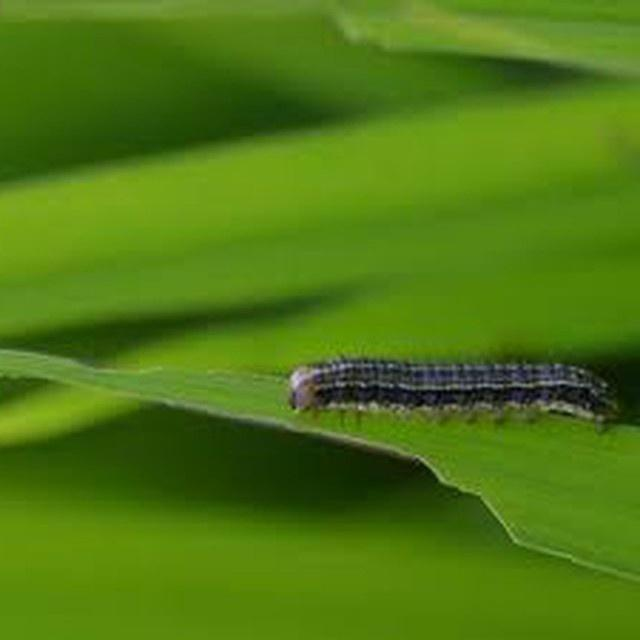gusano_cogollero: (285, 352, 623, 428)
